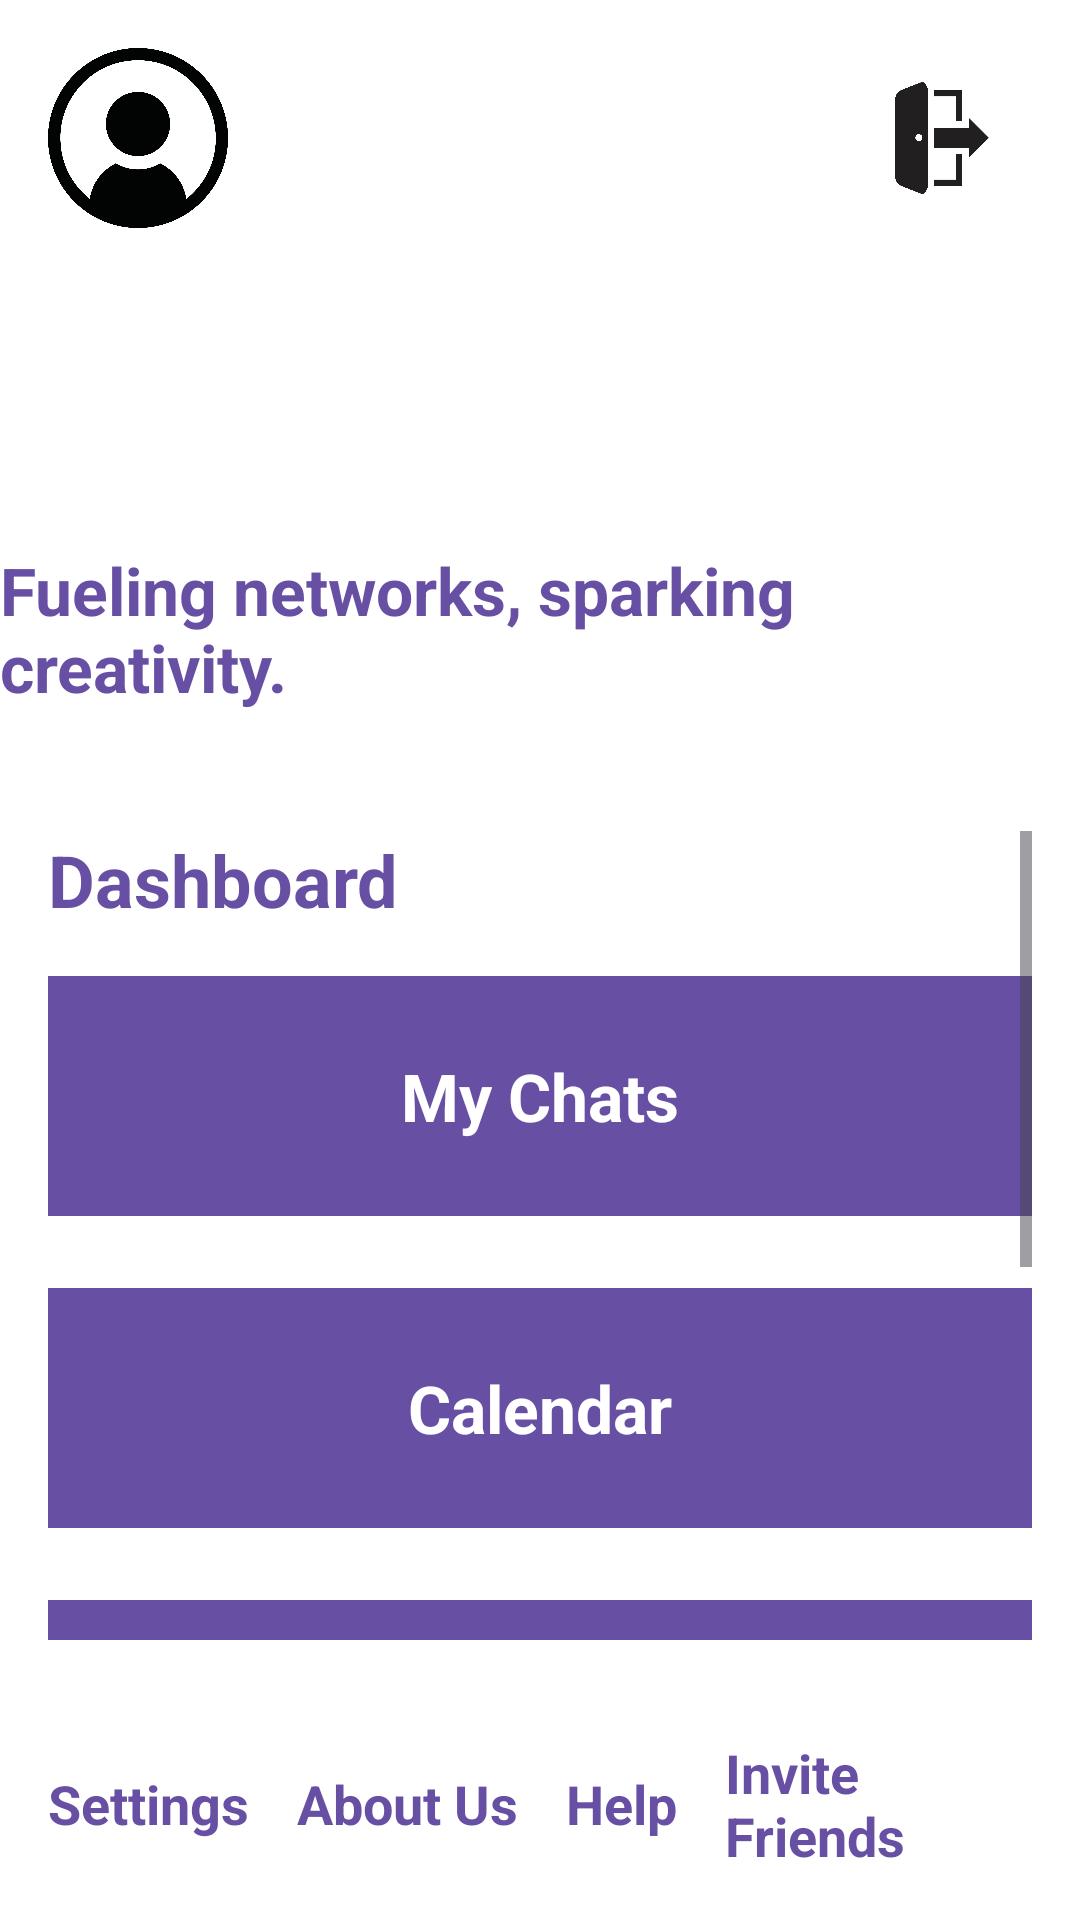

Icons on this 1080×1920 Android screen, each with its box as (x1, y1, x2, y2):
Profile Section: (48, 48, 228, 228)
